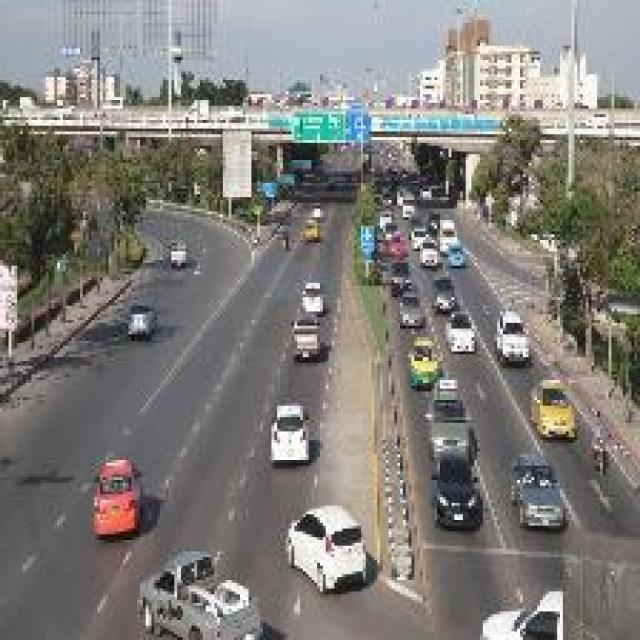other: (82, 442, 144, 535), (514, 366, 575, 446), (262, 396, 300, 466)
